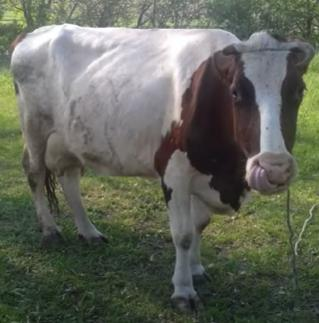cow: (11, 25, 315, 312)
